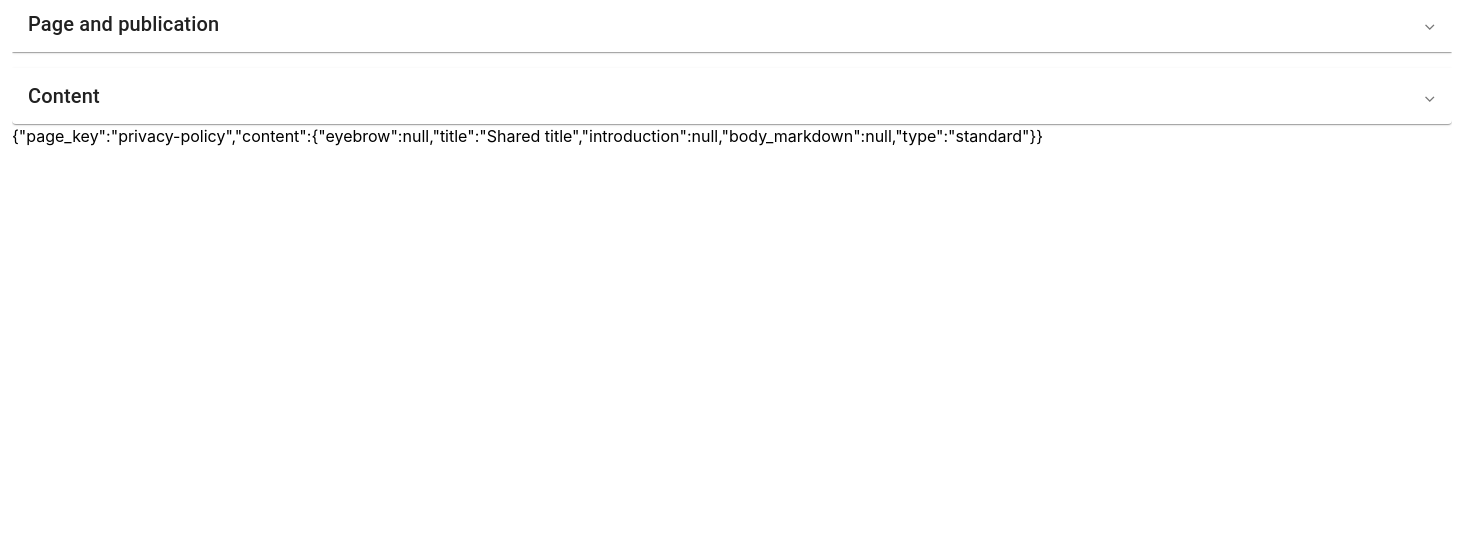
Test: page templates follow the selected page and hide irrelevant template fields
Click the button "Content ⌄" at (64, 96), box [12,68,1452,124]
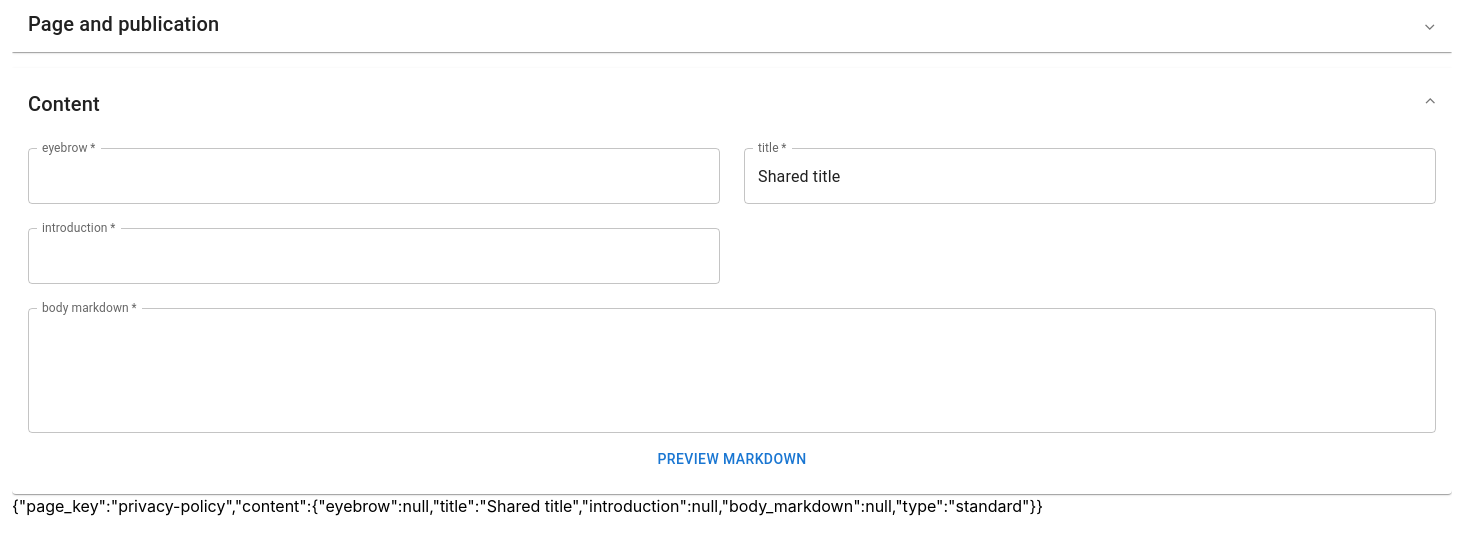
Now the field labelled "title *" holds "Shared title", box [744,148,1436,204]
